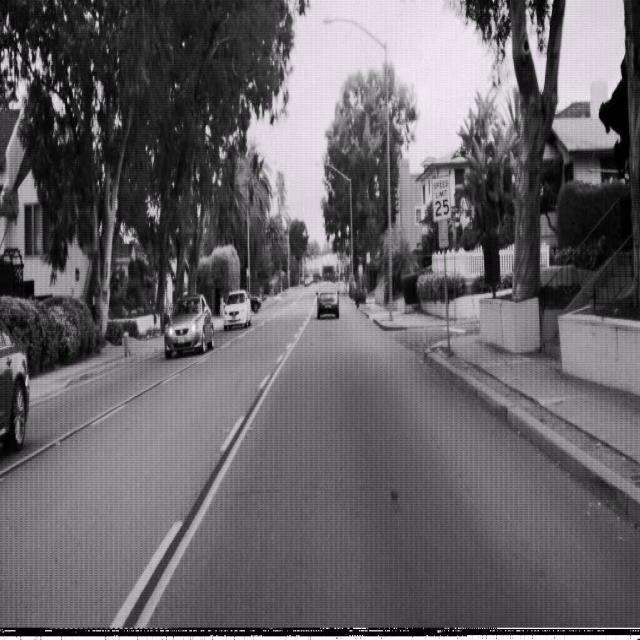speedLimit25: (431, 173, 452, 223)
